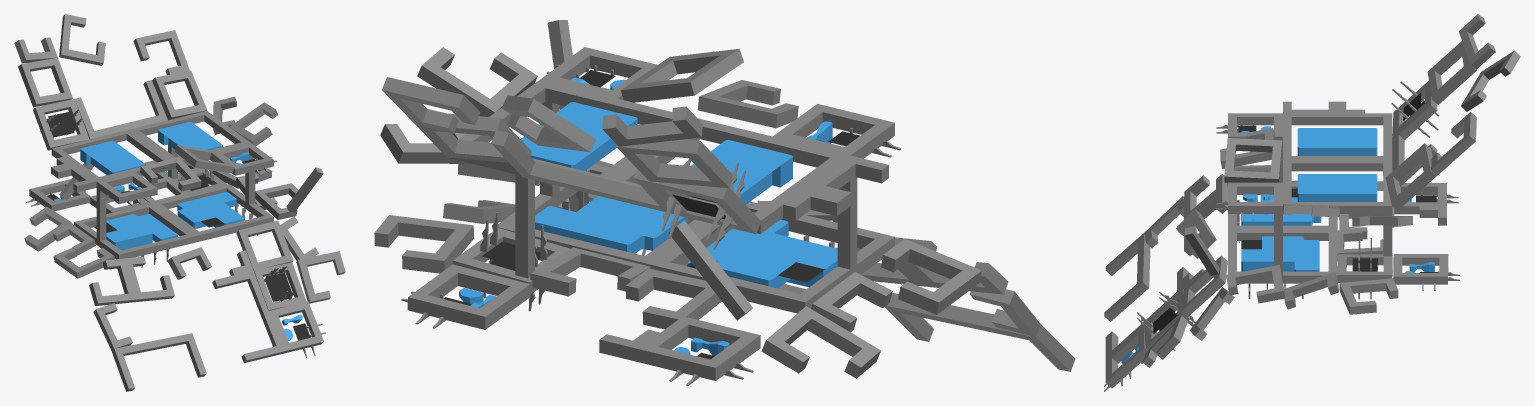
Rendered from StarbaseAtlasProjectKingdomOutpostWrecked.glb.
The picture shows the model from 3 angles, left to right: view 1: azimuth 30°, elevation 25°; view 2: azimuth 150°, elevation 25°; view 3: azimuth 270°, elevation 25°; orthographic projection. The views are drawn at different scales.
Parts seen in each view (by area): view 1: Block_Ship_Shop_Kingdom.003, Block_Ship_Shop_Kingdom.004, Block_Ship_Hangars_Kingdom.008, Block_Ship_Hangars_Kingdom.009, Quarter_Block_Towers.172, Quarter_Block_Spawn_Kingdom.007, Quarter_Block_Towers.174, Block_Half.101, Block_Half.100, Quarter_Block.751, Quarter_Block_Spawn_Kingdom.004, Quarter_Block.750 (+30 smaller); view 2: Block_Ship_Shop_Kingdom.003, Block_Ship_Shop_Kingdom.004, Block_Ship_Hangars_Kingdom.008, Block_Ship_Hangars_Kingdom.009, Quarter_Block_Spawn_Kingdom.006, Quarter_Block_Spawn_Kingdom.005, Quarter_Block_Spawn_Kingdom.004, Quarter_Block_Towers.172, Block_Half.099, Quarter_Block.748, Quarter_Block_Three_Quarter.081, Quarter_Block_Three_Quarter.082 (+27 smaller); view 3: Block_Ship_Hangars_Kingdom.009, Block_Ship_Hangars_Kingdom.008, Block_Ship_Shop_Kingdom.004, Quarter_Block.748, Quarter_Block_Spawn_Kingdom.003, Quarter_Block_Spawn_Kingdom.005, Block_Ship_Shop_Kingdom.003, Block_Half.101, Quarter_Block.750, Quarter_Block_Towers.173, Quarter_Block.751, Quarter_Block_Spawn_Kingdom.007 (+28 smaller).
Boxes of the visible parts, bbox=[...] form: Block_Ship_Shop_Kingdom.003: bbox=[74, 203, 196, 267]; Block_Ship_Shop_Kingdom.004: bbox=[152, 184, 273, 242]; Block_Ship_Hangars_Kingdom.008: bbox=[51, 129, 171, 181]; Block_Ship_Hangars_Kingdom.009: bbox=[129, 110, 251, 168]; Quarter_Block_Towers.172: bbox=[33, 99, 89, 150]; Quarter_Block_Spawn_Kingdom.007: bbox=[269, 301, 325, 357]; Quarter_Block_Towers.174: bbox=[253, 262, 306, 310]; Block_Half.101: bbox=[111, 333, 206, 391]; Block_Half.100: bbox=[212, 270, 284, 363]; Quarter_Block.751: bbox=[18, 57, 72, 107]; Quarter_Block_Spawn_Kingdom.004: bbox=[96, 172, 157, 206]; Quarter_Block.750: bbox=[152, 70, 207, 120]; Block_Ship_Shop_Kingdom.003: bbox=[650, 201, 894, 313]; Block_Ship_Shop_Kingdom.004: bbox=[498, 163, 706, 266]; Block_Ship_Hangars_Kingdom.008: bbox=[610, 118, 849, 233]; Block_Ship_Hangars_Kingdom.009: bbox=[450, 80, 672, 179]; Quarter_Block_Spawn_Kingdom.006: bbox=[638, 316, 760, 385]; Quarter_Block_Spawn_Kingdom.005: bbox=[401, 264, 530, 329]; Quarter_Block_Spawn_Kingdom.004: bbox=[773, 104, 901, 158]; Quarter_Block_Towers.172: bbox=[646, 158, 761, 249]; Block_Half.099: bbox=[491, 130, 673, 213]; Quarter_Block.748: bbox=[620, 48, 743, 102]; Quarter_Block_Three_Quarter.081: bbox=[881, 239, 981, 314]; Quarter_Block_Three_Quarter.082: bbox=[761, 306, 880, 378]; Block_Ship_Hangars_Kingdom.009: bbox=[1283, 159, 1392, 213]; Block_Ship_Hangars_Kingdom.008: bbox=[1283, 113, 1392, 159]; Block_Ship_Shop_Kingdom.004: bbox=[1228, 229, 1337, 298]; Quarter_Block.748: bbox=[1224, 138, 1282, 182]; Quarter_Block_Spawn_Kingdom.003: bbox=[1216, 182, 1282, 220]; Quarter_Block_Spawn_Kingdom.005: bbox=[1393, 254, 1459, 290]; Block_Ship_Shop_Kingdom.003: bbox=[1228, 183, 1337, 242]; Block_Half.101: bbox=[1104, 232, 1150, 321]; Quarter_Block.750: bbox=[1385, 143, 1436, 210]; Quarter_Block_Towers.173: bbox=[1337, 237, 1392, 299]; Quarter_Block.751: bbox=[1427, 41, 1476, 104]; Quarter_Block_Spawn_Kingdom.007: bbox=[1104, 326, 1147, 391].
Bounding box in the file's own units: 1177 × 1090 × 1409.
